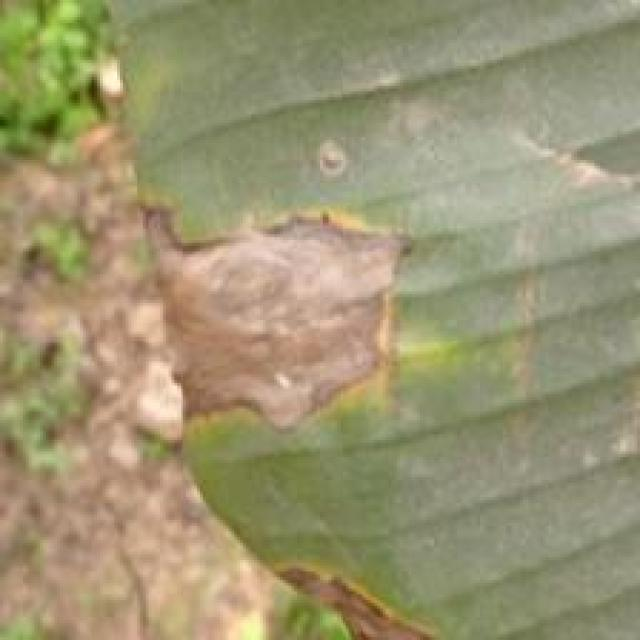Bacterial_spot: (130, 189, 410, 443), (260, 550, 464, 640), (490, 220, 552, 458), (501, 118, 636, 208), (600, 404, 640, 491), (304, 137, 358, 192)
